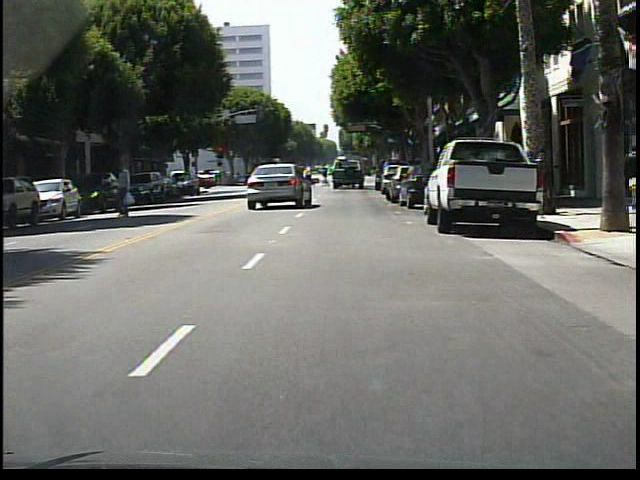person: (116, 160, 138, 221), (623, 146, 637, 211), (304, 167, 315, 189), (321, 165, 331, 189)
